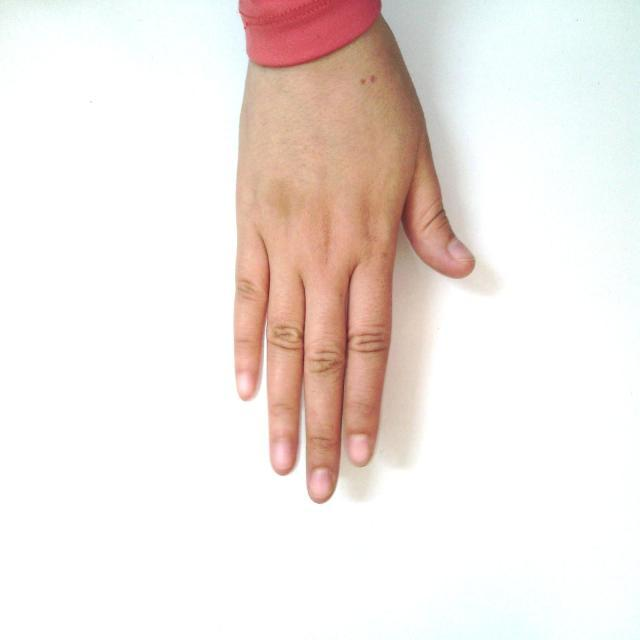Fingernail: (348, 435, 370, 464), (310, 469, 330, 497), (449, 240, 474, 261), (274, 441, 292, 470), (239, 375, 252, 396)
